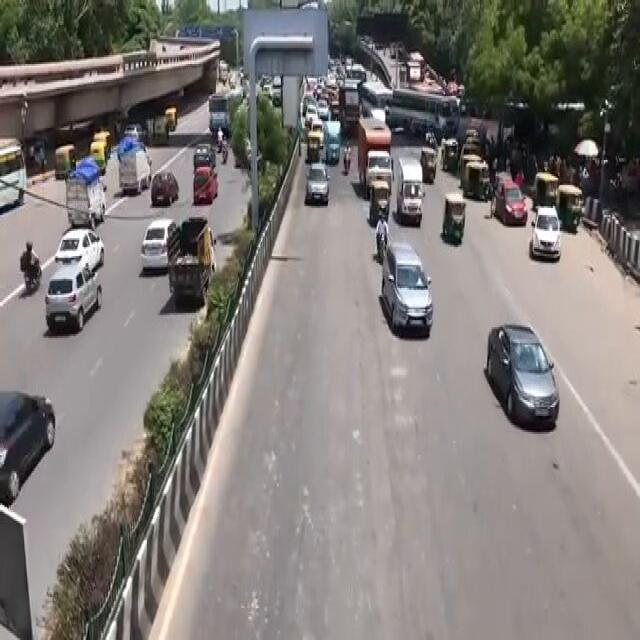three_wheeler: (436, 182, 470, 260)
